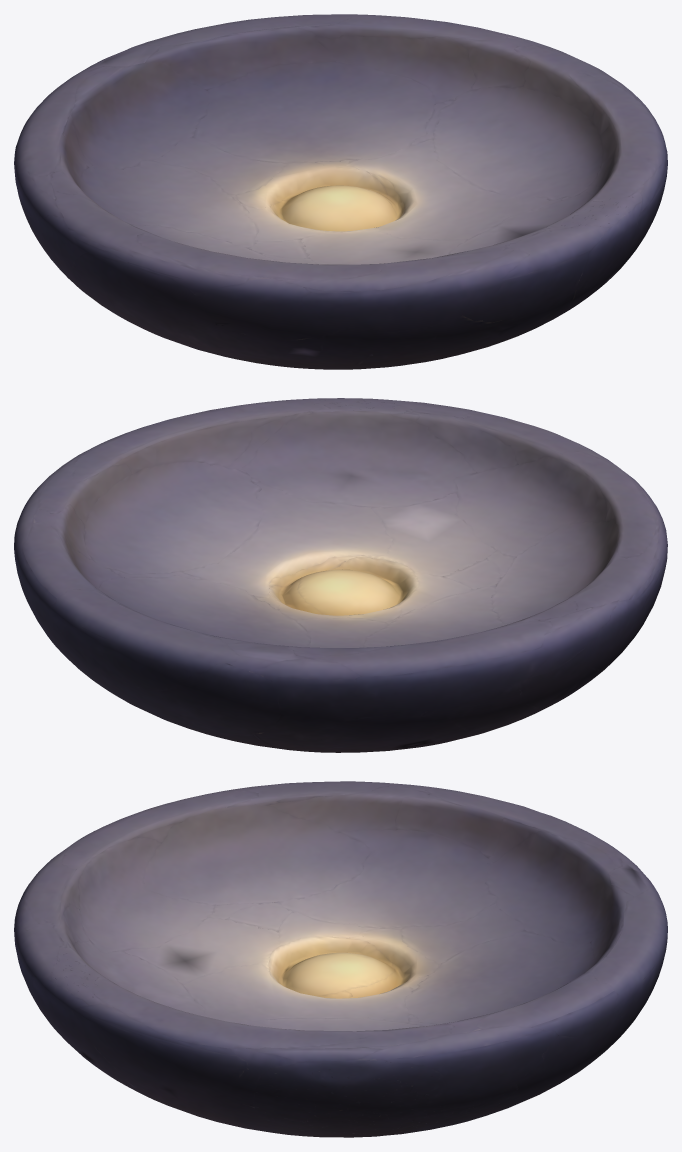
File: first-light-basin-web-256.glb
3 renders of one model, top to bottom at view 1: azimuth 30°, elevation 25°; view 2: azimuth 150°, elevation 25°; view 3: azimuth 270°, elevation 25°, orthographic.
Parts seen in each view (by area): view 1: node_0; view 2: node_0; view 3: node_0.
Part boxes in pixels (x1,y1,x2,y2): node_0: (14, 14, 667, 369); node_0: (14, 398, 667, 752); node_0: (14, 781, 667, 1137).
Size of the model in its own units: 1.17 by 0.3045 by 1.17.
1 material, 1 textured.
